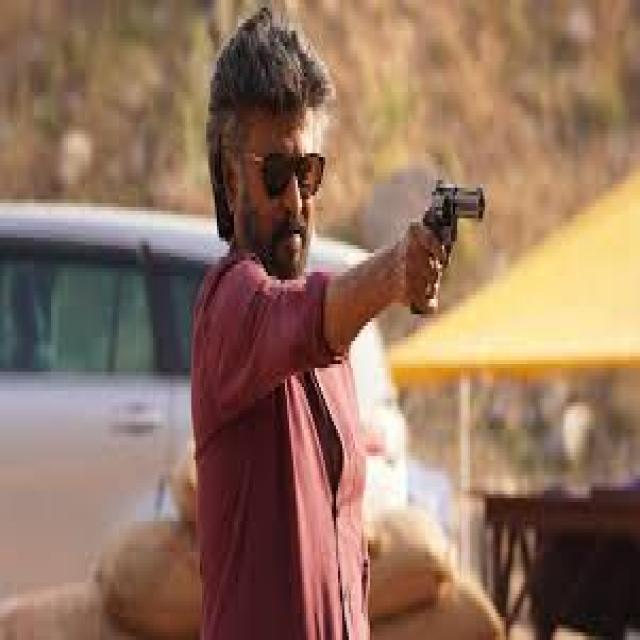weapons: (393, 120, 498, 364)
